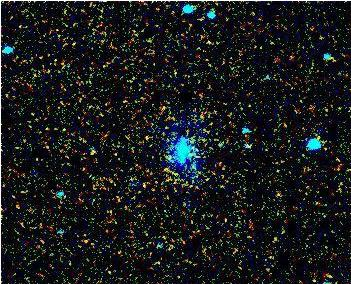star: (132, 124, 162, 154)
